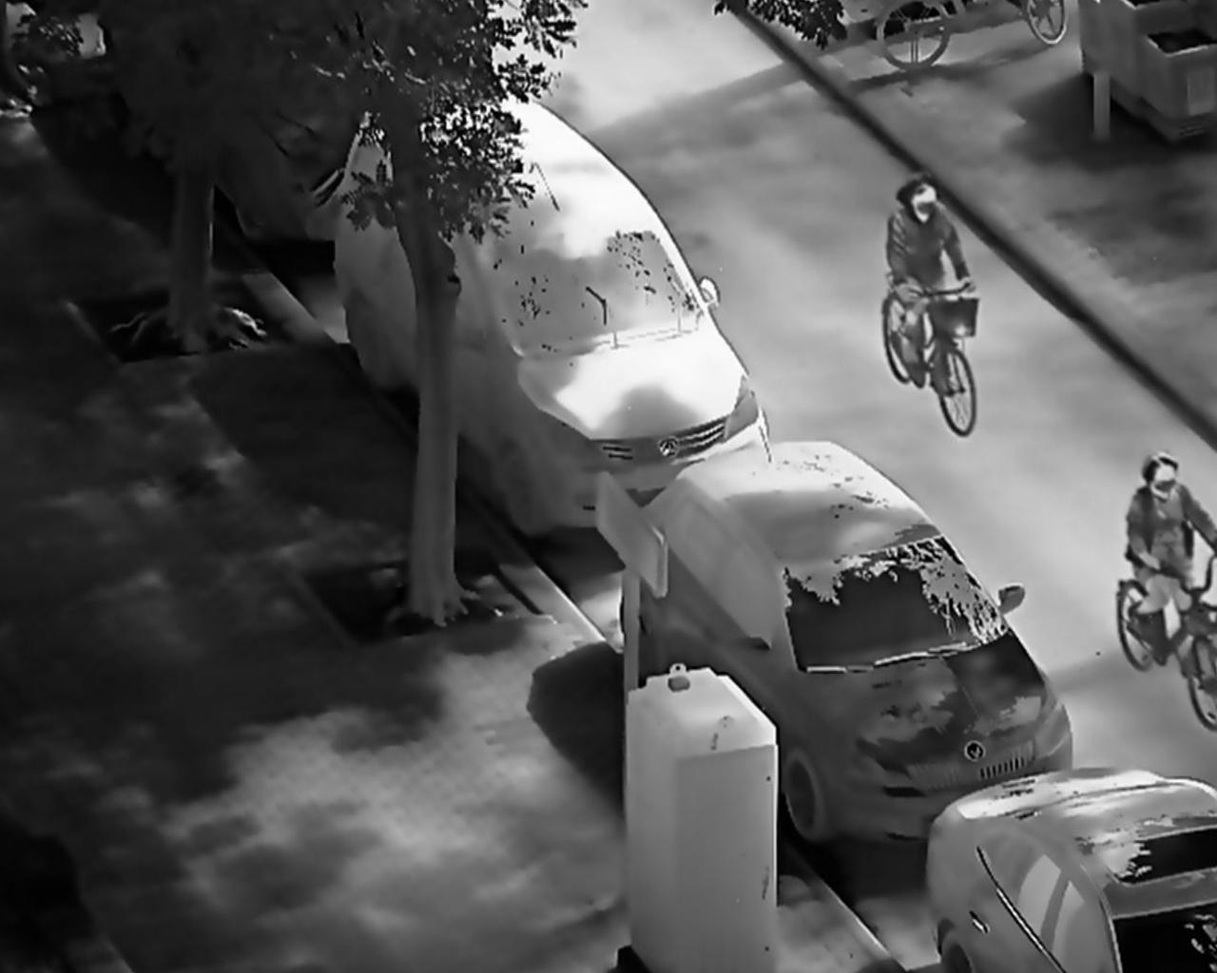person: (883, 170, 983, 391), (1123, 448, 1217, 672)
